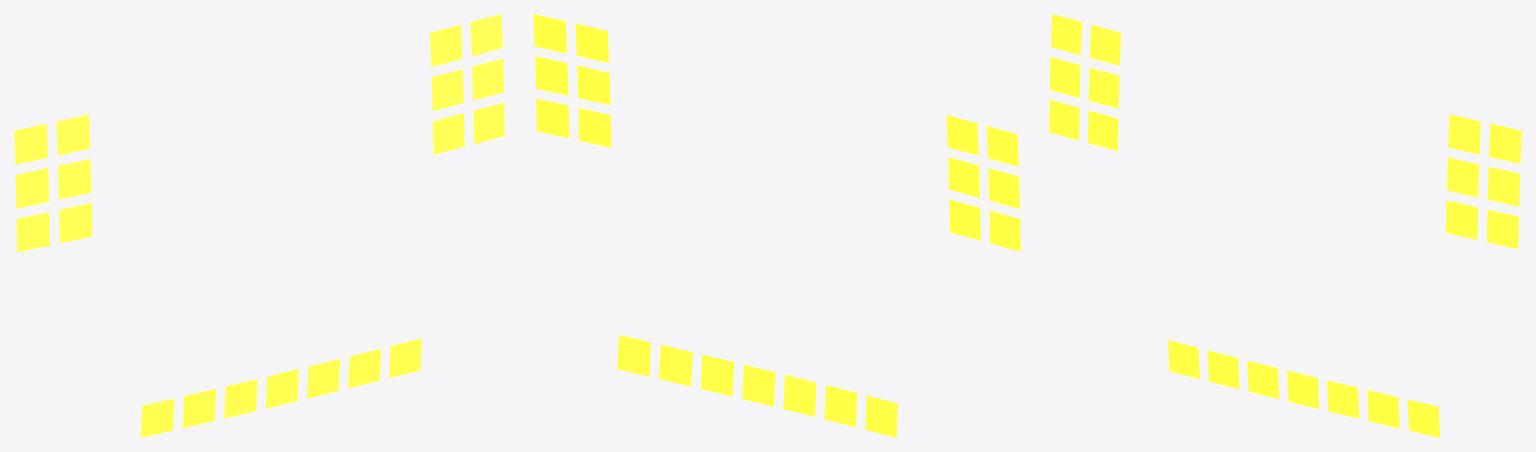
Rendered from expressao_neutra.glb.
The picture shows the model from 3 angles, left to right: view 1: azimuth 30°, elevation 25°; view 2: azimuth 150°, elevation 25°; view 3: azimuth 330°, elevation 25°; orthographic projection. The views are drawn at different scales.
Visible parts, largest first — view 1: Pixels NEUTRA; view 2: Pixels NEUTRA; view 3: Pixels NEUTRA.
Boxes of the visible parts, left/top/right/bottom form: Pixels NEUTRA: left=14, top=14, right=504, bottom=437; Pixels NEUTRA: left=533, top=14, right=1020, bottom=437; Pixels NEUTRA: left=1049, top=14, right=1521, bottom=437.
Bounding box in the file's own units: 0.1789 × 0.1181 × 0.00458.
